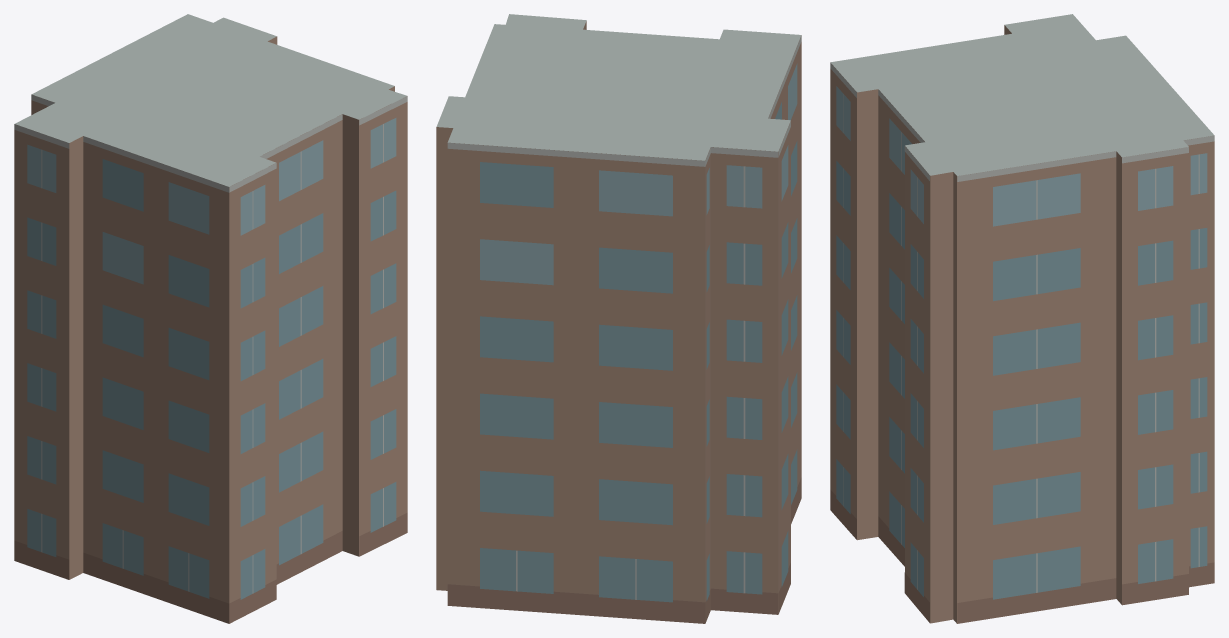
Rendered from survey-upis-33000476.glb.
The picture shows the model from 3 angles, left to right: view 1: azimuth 30°, elevation 25°; view 2: azimuth 150°, elevation 25°; view 3: azimuth 270°, elevation 25°; orthographic projection. The views are drawn at different scales.
Parts seen in each view (by area): view 1: survey-upis-33000476.tmp; view 2: survey-upis-33000476.tmp; view 3: survey-upis-33000476.tmp.
Part boxes in pixels (x1,y1,x2,y2): survey-upis-33000476.tmp: (14,14,407,623); survey-upis-33000476.tmp: (436,14,801,623); survey-upis-33000476.tmp: (830,14,1214,623).
Size of the model in its own units: 14.22 by 18.3 by 14.25.
